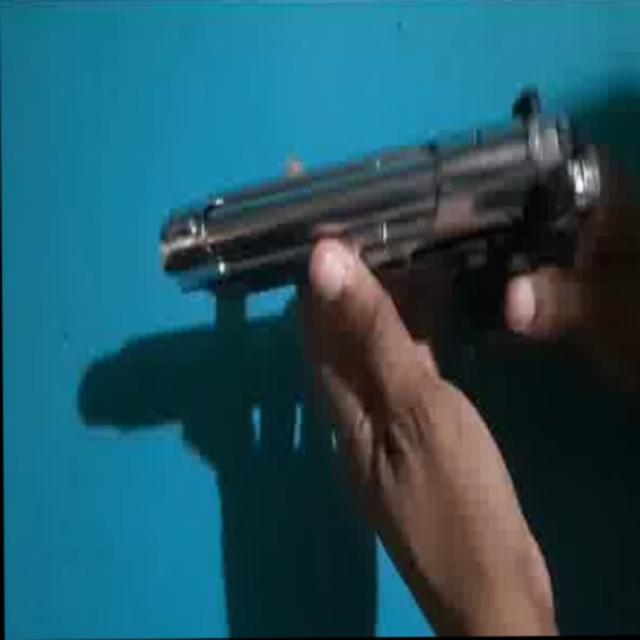weapon: (157, 84, 604, 303)
